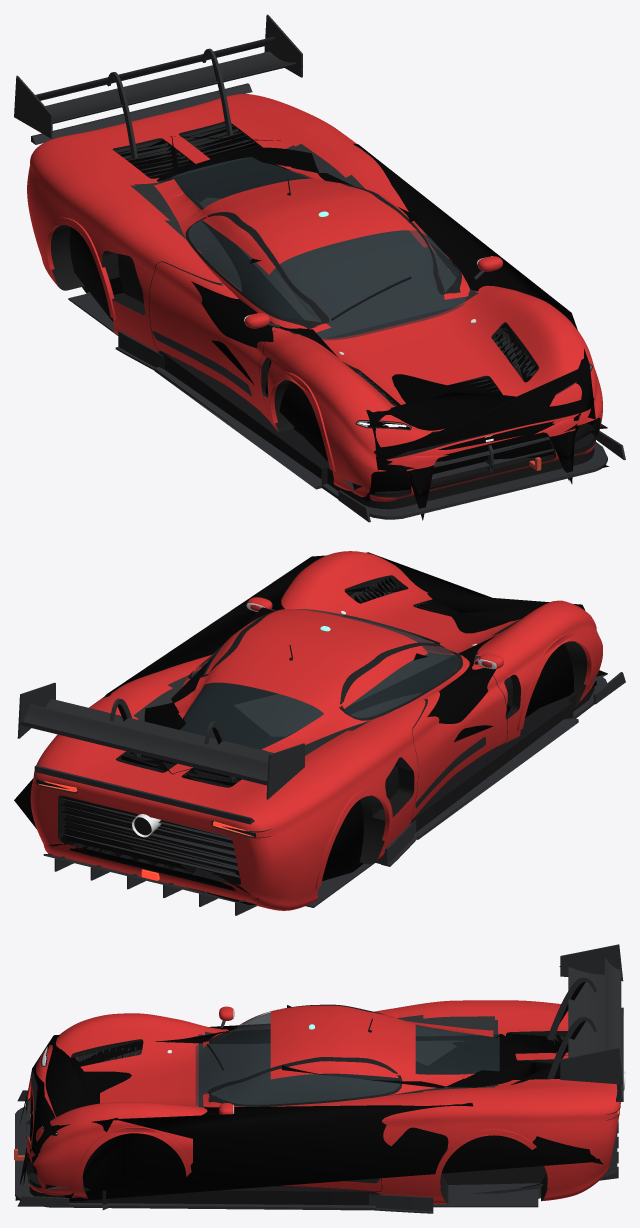
File: ferrari.glb
3 renders of one model, top to bottom at view 1: azimuth 30°, elevation 25°; view 2: azimuth 150°, elevation 25°; view 3: azimuth 270°, elevation 25°, orthographic. The views are drawn at different scales.
Visible parts, largest first — view 1: Body, Shadow, Carbon, Cabin, Paint, Grille, Trim; view 2: Body, Shadow, Carbon, Paint, Cabin, Grille, Trim; view 3: Body, Shadow, Carbon, Paint, Cabin, Grille, Trim.
Part boxes in pixels (x1,y1,x2,y2): Body: (27, 94, 602, 501); Shadow: (31, 44, 609, 520); Carbon: (14, 14, 625, 522); Cabin: (157, 157, 465, 340); Paint: (44, 164, 502, 471); Grille: (158, 178, 594, 509); Trim: (149, 183, 592, 430); Body: (30, 551, 602, 910); Shadow: (14, 552, 607, 905); Carbon: (17, 576, 625, 915); Paint: (174, 597, 594, 889); Cabin: (180, 609, 460, 750); Grille: (289, 614, 594, 831); Trim: (188, 609, 591, 820); Body: (25, 1000, 620, 1203); Shadow: (15, 966, 623, 1201); Carbon: (15, 944, 623, 1213); Paint: (77, 1005, 553, 1189); Cabin: (195, 1012, 499, 1105); Grille: (29, 1018, 380, 1205); Trim: (41, 1004, 402, 1191).
Size of the model in its own units: 2.2 by 1.43 by 4.73.
